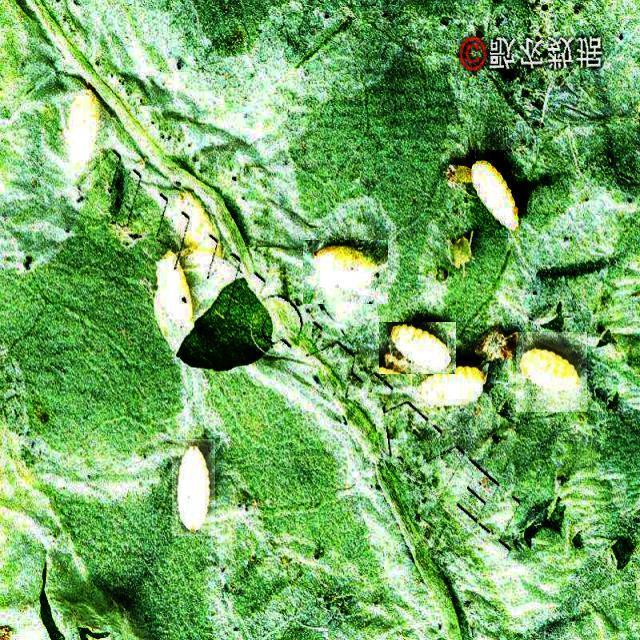whorl-maggot: (516, 333, 587, 413), (407, 363, 492, 429), (303, 240, 388, 304), (466, 150, 527, 238), (172, 439, 215, 536), (379, 322, 456, 374)
